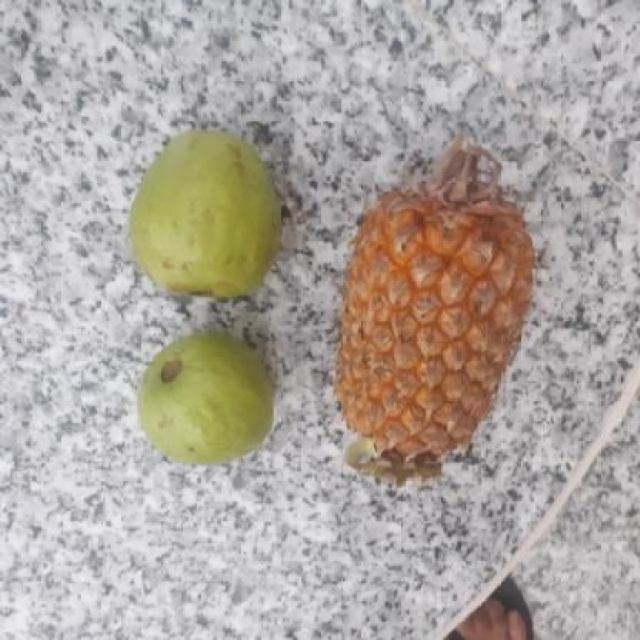guava: (122, 131, 280, 292), (131, 332, 274, 461)
pineapple: (334, 173, 537, 473)
